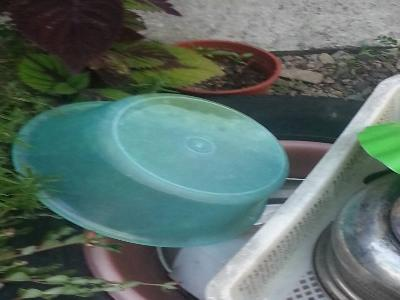bowl: (10, 92, 292, 248)
